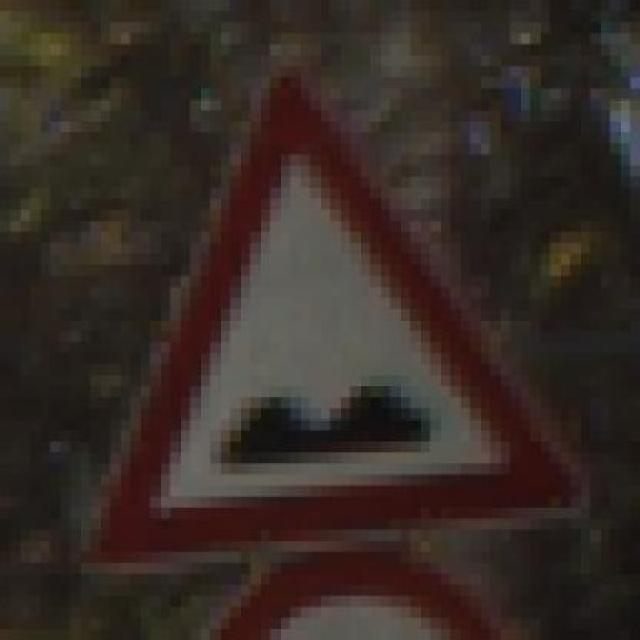Uneven Road: (80, 66, 600, 585)
